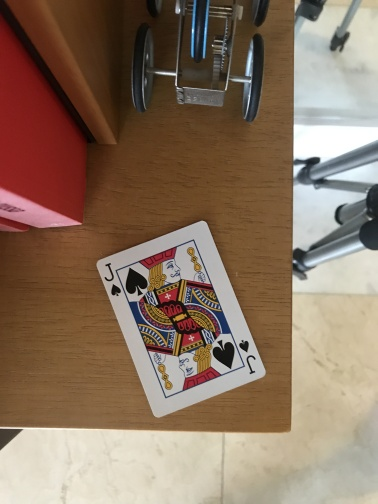jack: (95, 220, 267, 419)
